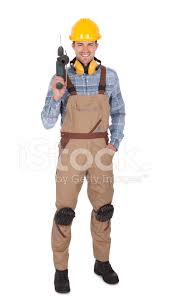Person_wearing_helmet: (61, 13, 109, 53)
